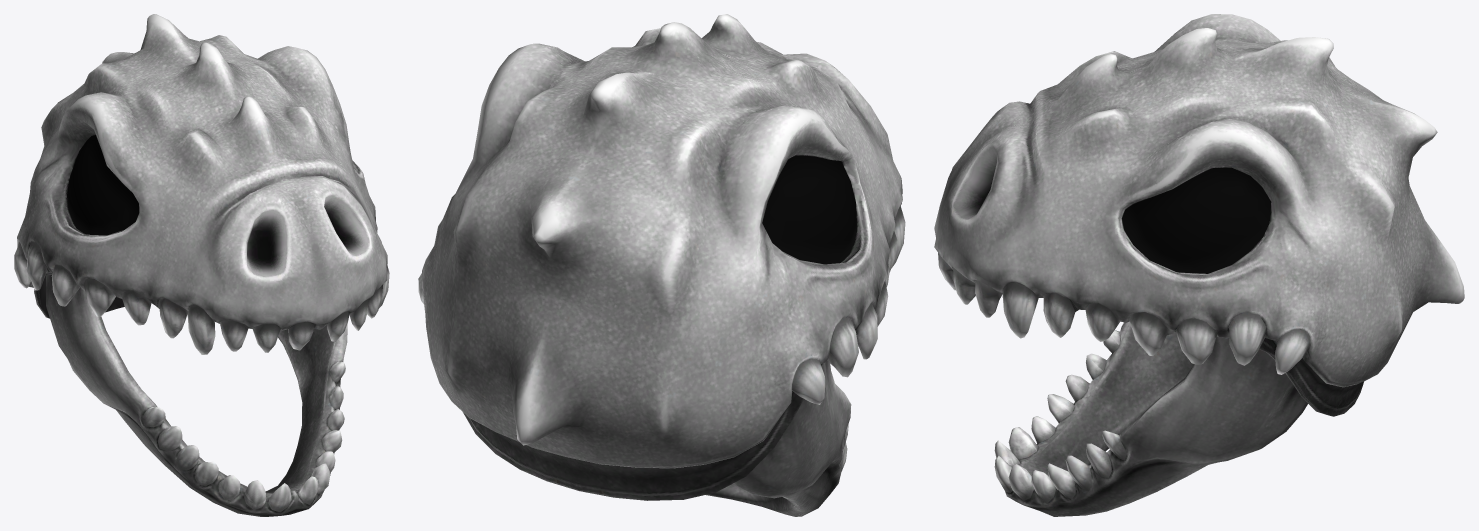
File: SurvivorMale_Head_Helmet_Dino_LOD0.glb
3 renders of one model, left to right at view 1: azimuth 30°, elevation 25°; view 2: azimuth 150°, elevation 25°; view 3: azimuth 270°, elevation 25°, orthographic. The views are drawn at different scales.
Parts seen in each view (by area): view 1: Hoodie; view 2: Hoodie; view 3: Hoodie.
Part boxes in pixels (box(x1,y1,x2,y2)): Hoodie: box(14, 14, 389, 516); Hoodie: box(418, 14, 905, 516); Hoodie: box(934, 14, 1464, 516).
Bounding box in the file's own units: 0.234 × 0.289 × 0.2927.
Materials: 1 (1 with a texture image).
